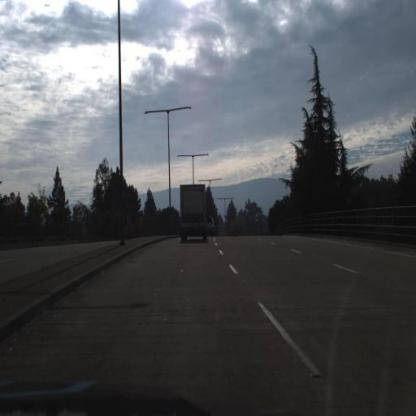car: (208, 216, 218, 239)
truck: (180, 186, 207, 247)
